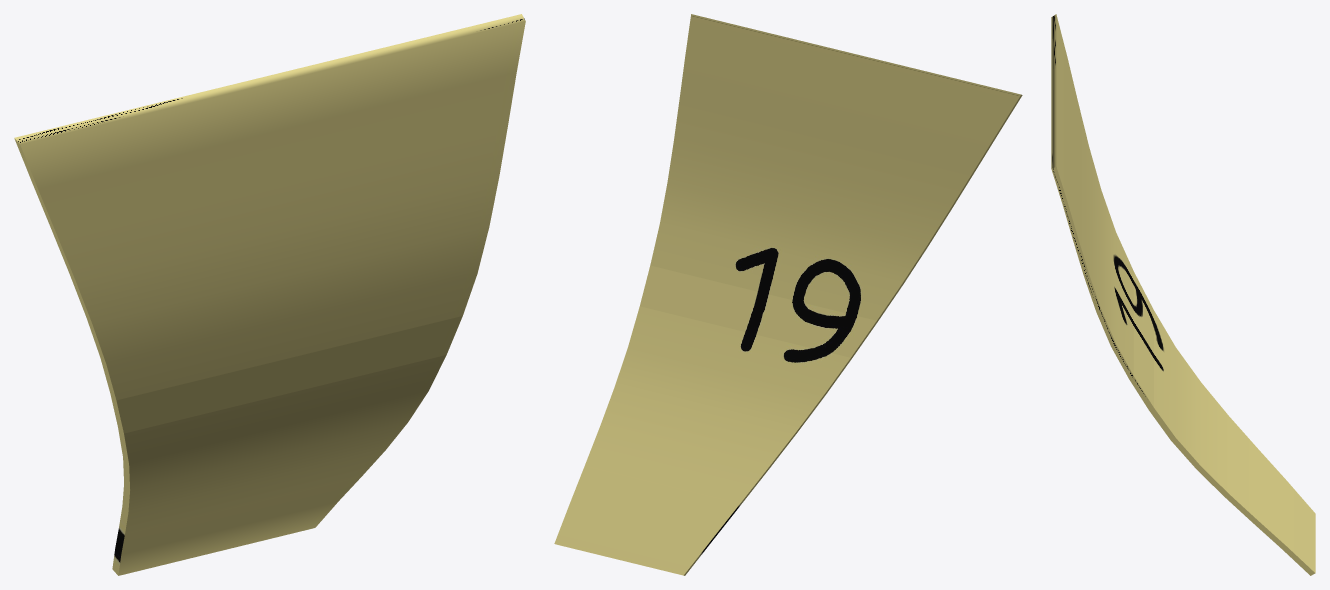
The model's file is Clue Paper 1.fbx.
The picture shows the model from 3 angles, left to right: view 1: azimuth 30°, elevation 25°; view 2: azimuth 150°, elevation 25°; view 3: azimuth 270°, elevation 25°; orthographic projection. The views are drawn at different scales.
Visible parts, largest first — view 1: Cube; view 2: Cube; view 3: Cube.
Boxes of the visible parts, x1=… form: Cube: x1=14, y1=14, x2=525, y2=575; Cube: x1=554, y1=14, x2=1022, y2=575; Cube: x1=1051, y1=14, x2=1315, y2=575.
Size of the model in its own units: 139 by 174 by 102.
